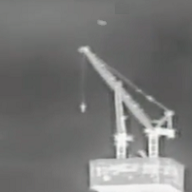Target: (96, 19, 107, 26)
